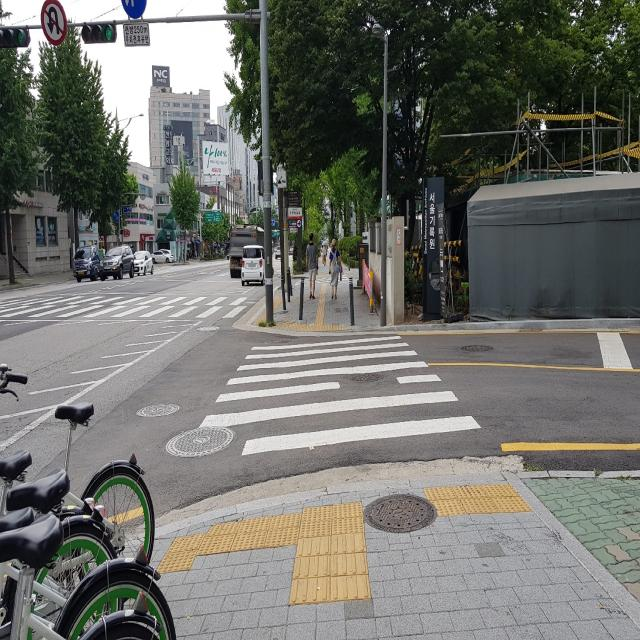횡단보도: (196, 333, 484, 460), (0, 290, 249, 324)
